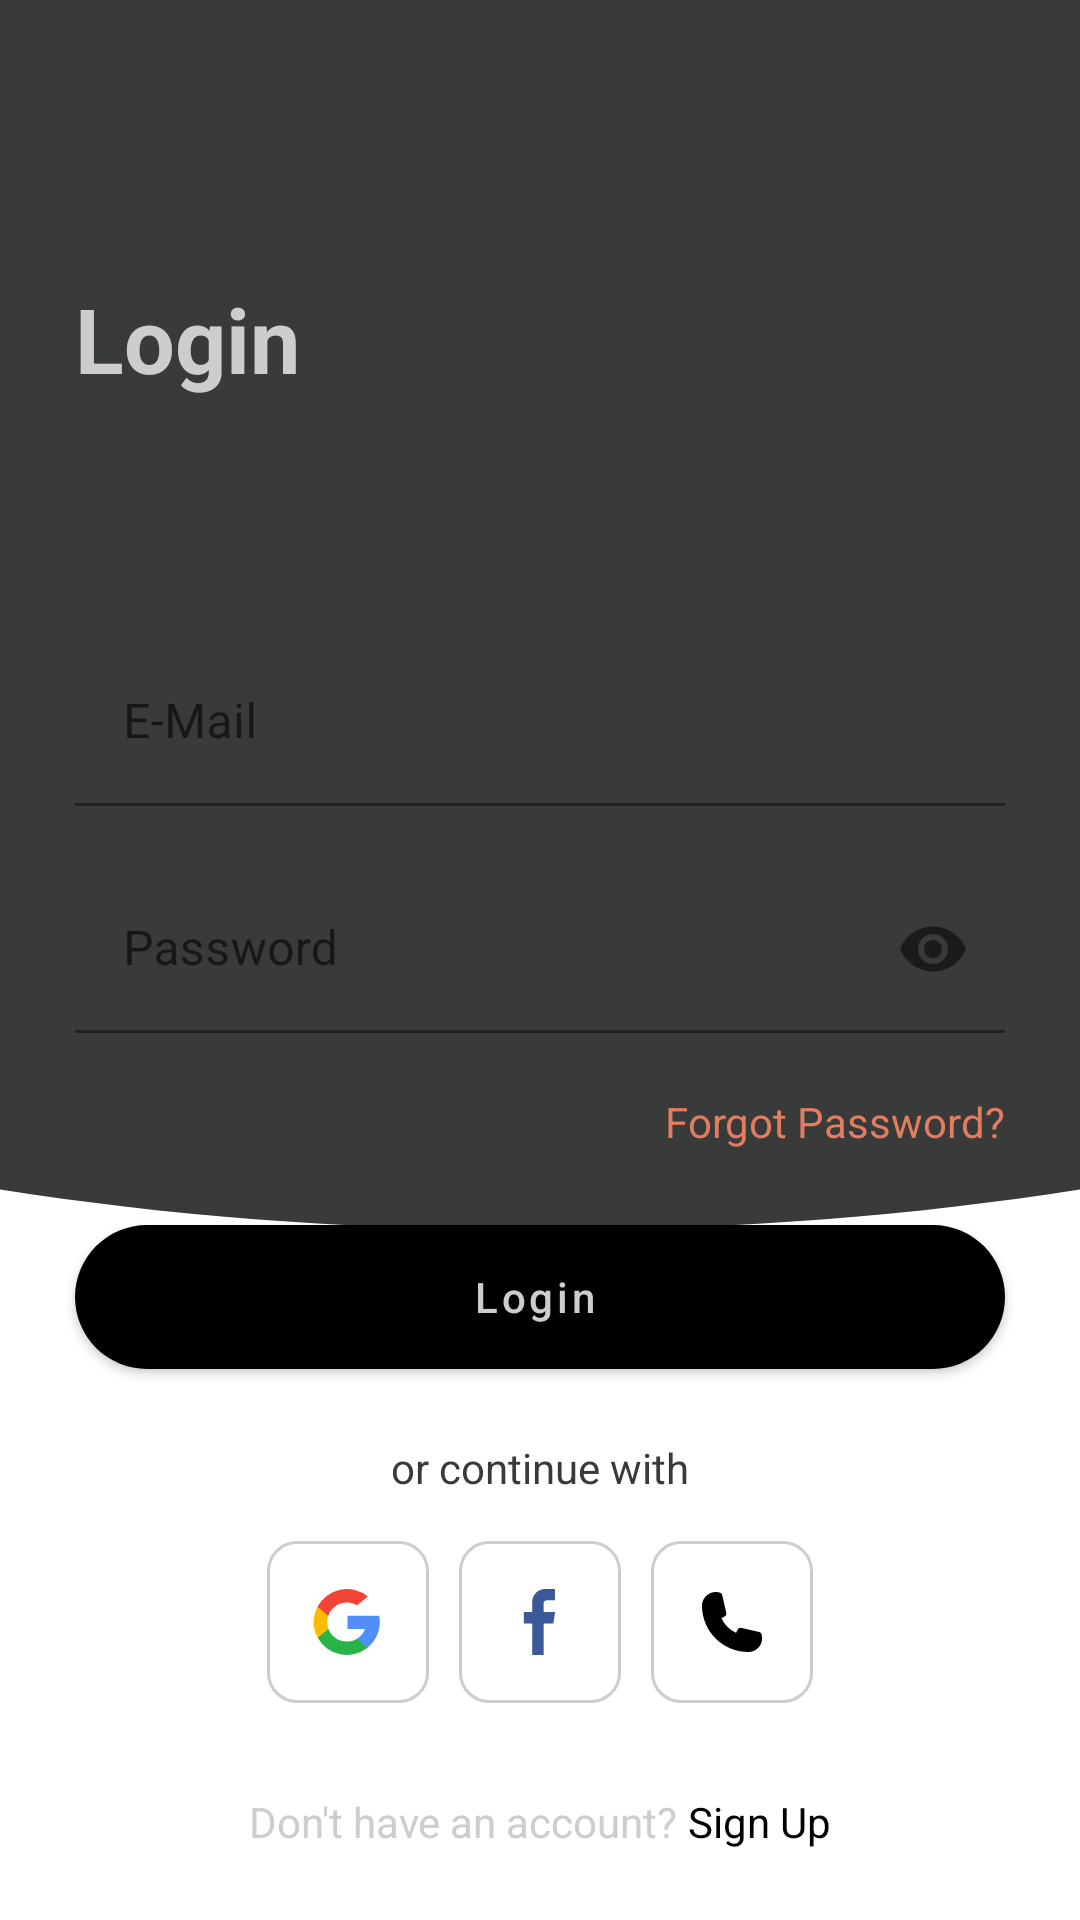

Named icons in this screenshot (1080*1920) and their bounding boxes, (x1, y1, x2, y2):
phone: (651, 1541, 813, 1703)
